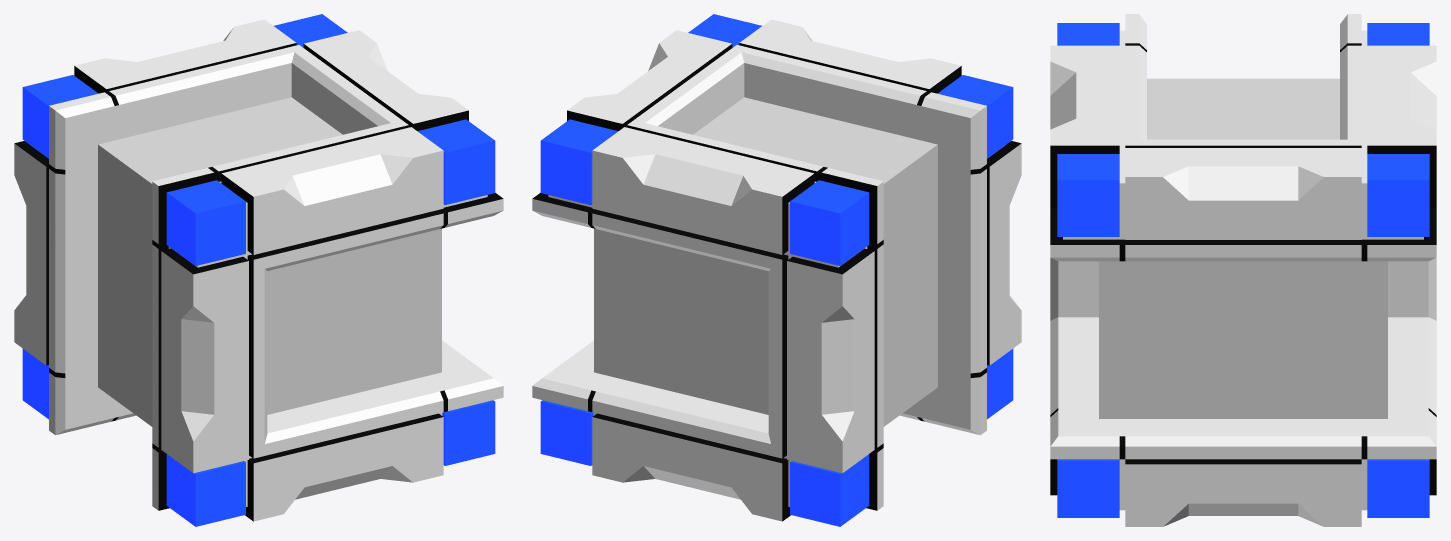
The model's file is SciCube.fbx.
The picture shows the model from 3 angles, left to right: view 1: azimuth 30°, elevation 25°; view 2: azimuth 150°, elevation 25°; view 3: azimuth 270°, elevation 25°; orthographic projection. The views are drawn at different scales.
Visible parts, largest first — view 1: Cube, Cube.001; view 2: Cube, Cube.001; view 3: Cube, Cube.001.
Boxes of the visible parts, x1=… form: Cube: x1=14, y1=14, x2=503, y2=526; Cube.001: x1=98, y1=97, x2=441, y2=426; Cube: x1=532, y1=14, x2=1021, y2=526; Cube.001: x1=594, y1=97, x2=937, y2=426; Cube: x1=1050, y1=14, x2=1436, y2=526; Cube.001: x1=1099, y1=78, x2=1387, y2=418.
Bounding box in the file's own units: 200 × 200 × 200.
